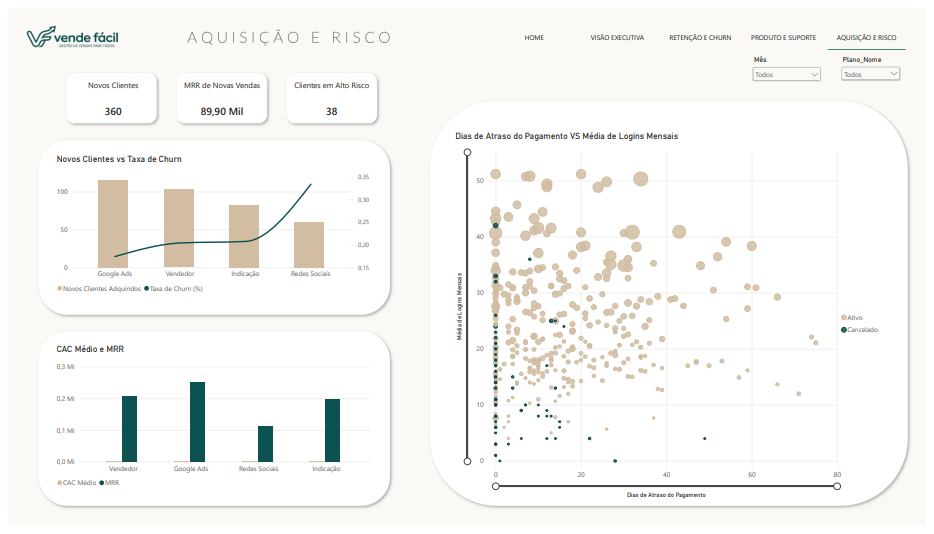

What the dashboard file says about the page in this screenshot:
{"tool":"powerbi","page":{"name":"AQUISIÇÃO E RISCO","canvas":[1920,1080],"ordinal":4},"visuals":[{"type":"slicer","fields":{"Values":["Dados_Brutos.Data_Referencia.Variation.Hierarquia de datas.Mês"]},"box":[1552.7,100.2,153.3,77.4],"z":0},{"type":"slicer","fields":{"Values":["dim_plano1.Plano_Nome"]},"box":[1738.5,99.2,133.2,77.3],"z":1000},{"type":"cardVisual","title":"Novos Clientes","fields":{"Data":["Dados_Brutos.Novos Clientes Adquiridos"]},"box":[126,148.8,187.3,92.8],"z":2000},{"type":"pageNavigator","box":[1017.7,36.8,866.2,50.1],"z":3000},{"type":"cardVisual","title":"MRR de Novas Vendas","fields":{"Data":["Dados_Brutos.MRR Novas Vendas"]},"box":[353.5,148.8,187.3,92.8],"z":4000},{"type":"cardVisual","title":"Clientes em Alto Risco","fields":{"Data":["Dados_Brutos.Clientes em Alto Risco"]},"box":[583,149,188,93],"z":5000},{"type":"lineStackedColumnComboChart","title":"Novos Clientes vs Taxa de Churn","fields":{"Category":["Dados_Brutos.Nome_Canal"],"Y":["Dados_Brutos.Novos Clientes Adquiridos"],"Y2":["Dados_Brutos.Taxa de Churn"]},"box":[85.4,291.1,688.3,324.7],"z":6000},{"type":"clusteredColumnChart","title":"CAC Médio e MRR ","fields":{"Category":["dim_canal_aquisicao3.Canal_Nome"],"Y":["Sum(dim_canal_aquisicao3.Custo_Medio_Aquisicao)","Dados_Brutos.MRR Gerado"]},"box":[85.4,688.3,688.3,335.1],"z":7000},{"type":"scatterChart","title":"Dias de Atraso do Pagamento VS Média de Logins Mensais","fields":{"Category":["Dados_Brutos.ID_Cliente"],"Series":["Dados_Brutos.Status_Cliente"],"Size":["Sum(Dados_Brutos.MRR)"],"X":["Sum(Dados_Brutos.Dias_Atraso_Pagamento)"],"Y":["Dados_Brutos.Média de Logins Mensais"]},"box":[919.8,242.4,925.7,798.7],"z":8000}]}

Visuals, with their boxes in screenshot pixels (x1, y1, x2, y2), scaled from the page's 1920x1080 canvas onto the 934x534 screenshot:
slicer - Dados_Brutos.Data_Referencia.Variation.Hierarquia de datas.Mês: 755/50/830/88
slicer - dim_plano1.Plano_Nome: 846/49/911/87
"Novos Clientes" cardVisual: 61/74/152/119
pageNavigator: 495/18/916/43
"MRR de Novas Vendas" cardVisual: 172/74/263/119
"Clientes em Alto Risco" cardVisual: 284/74/375/120
"Novos Clientes vs Taxa de Churn" lineStackedColumnComboChart: 42/144/376/304
"CAC Médio e MRR " clusteredColumnChart: 42/340/376/506
"Dias de Atraso do Pagamento VS Média de Logins Mensais" scatterChart: 447/120/898/515
